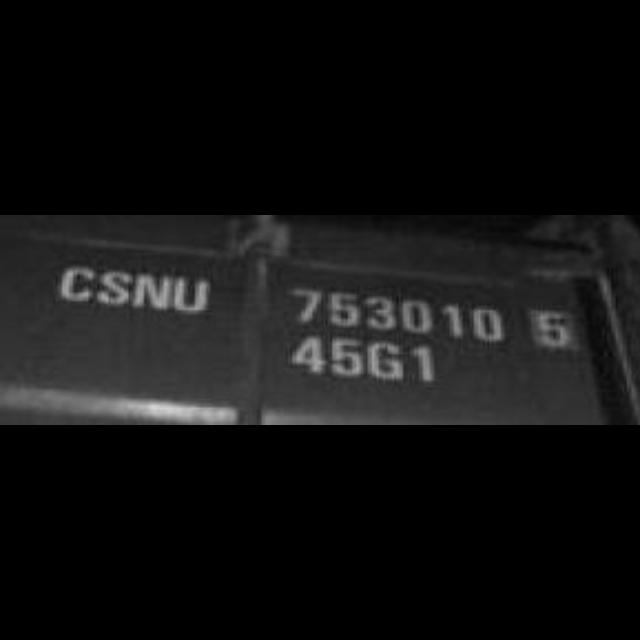0: (469, 303, 506, 351)
1: (410, 344, 442, 386), (441, 298, 465, 344)
3: (364, 292, 396, 336), (401, 296, 434, 338)
4: (288, 329, 328, 378)
5: (528, 304, 572, 356), (328, 334, 364, 382), (329, 288, 361, 330)
7: (292, 286, 320, 326)
c: (56, 262, 94, 306)
g: (366, 338, 404, 384)
n: (135, 272, 169, 310)
s: (97, 268, 133, 308)
u: (172, 274, 210, 314)
